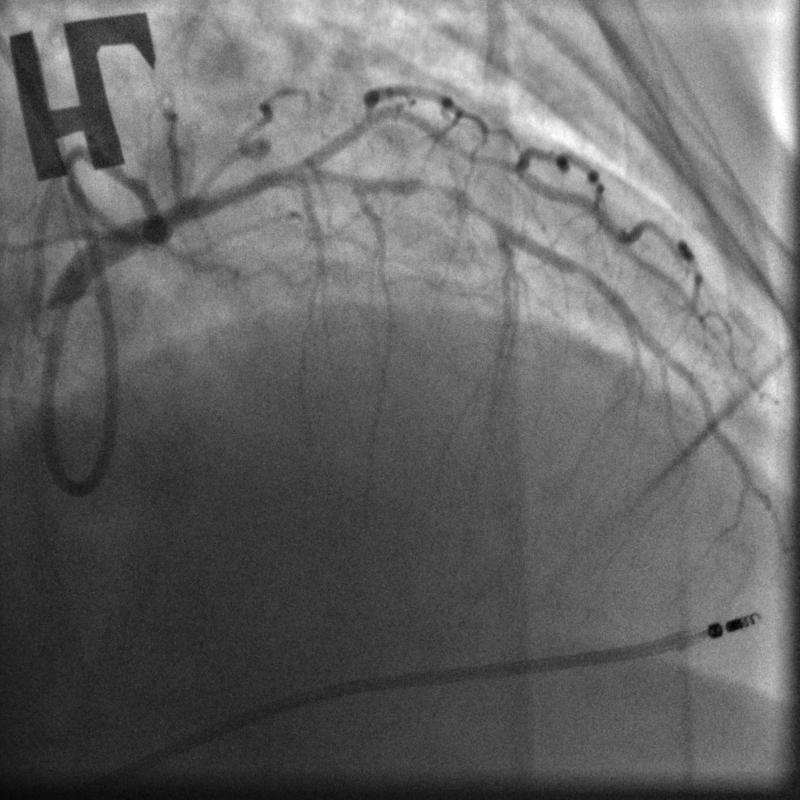Stenosis: (404, 171, 479, 207)
